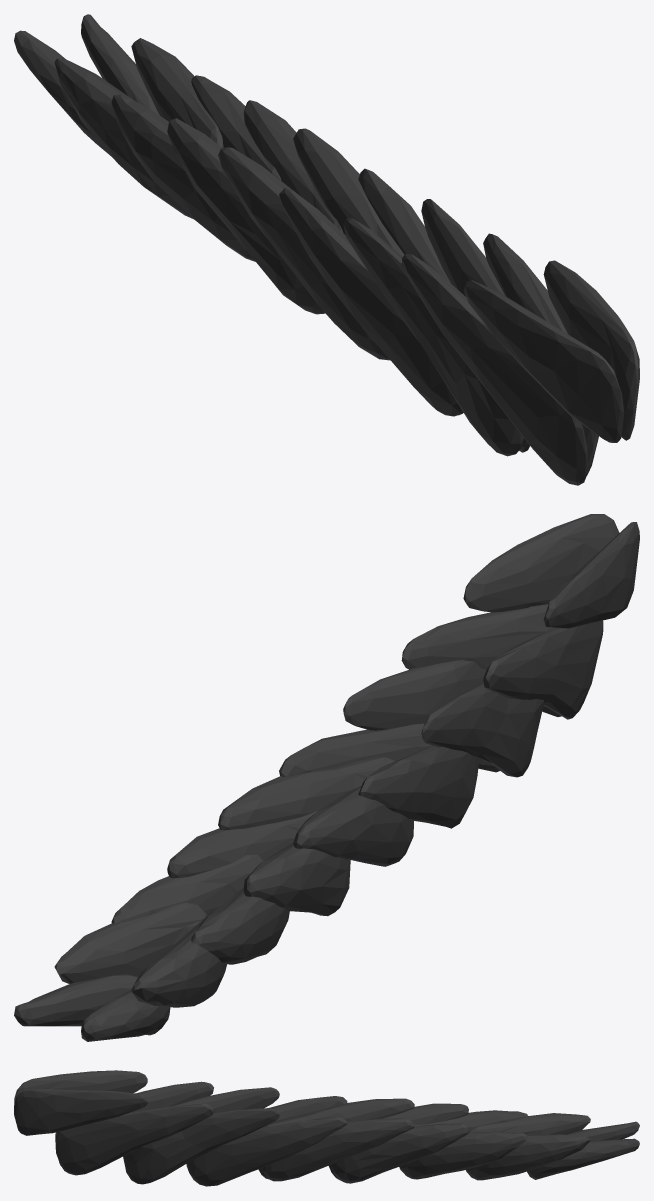
File: multifidus_thoracis.glb
3 renders of one model, top to bottom at view 1: azimuth 30°, elevation 25°; view 2: azimuth 150°, elevation 25°; view 3: azimuth 270°, elevation 25°, orthographic. The views are drawn at different scales.
Visible parts, largest first — view 1: multifidus_thoracis; view 2: multifidus_thoracis; view 3: multifidus_thoracis.
Boxes of the visible parts, x1,y1,x2,y2 form: multifidus_thoracis: (14,14,639,485); multifidus_thoracis: (14,514,639,1041); multifidus_thoracis: (14,1070,639,1186).
Size of the model in its own units: 0.000667 by 0.00114 by 0.00623.
Materials: 1 (1 with a texture image).
